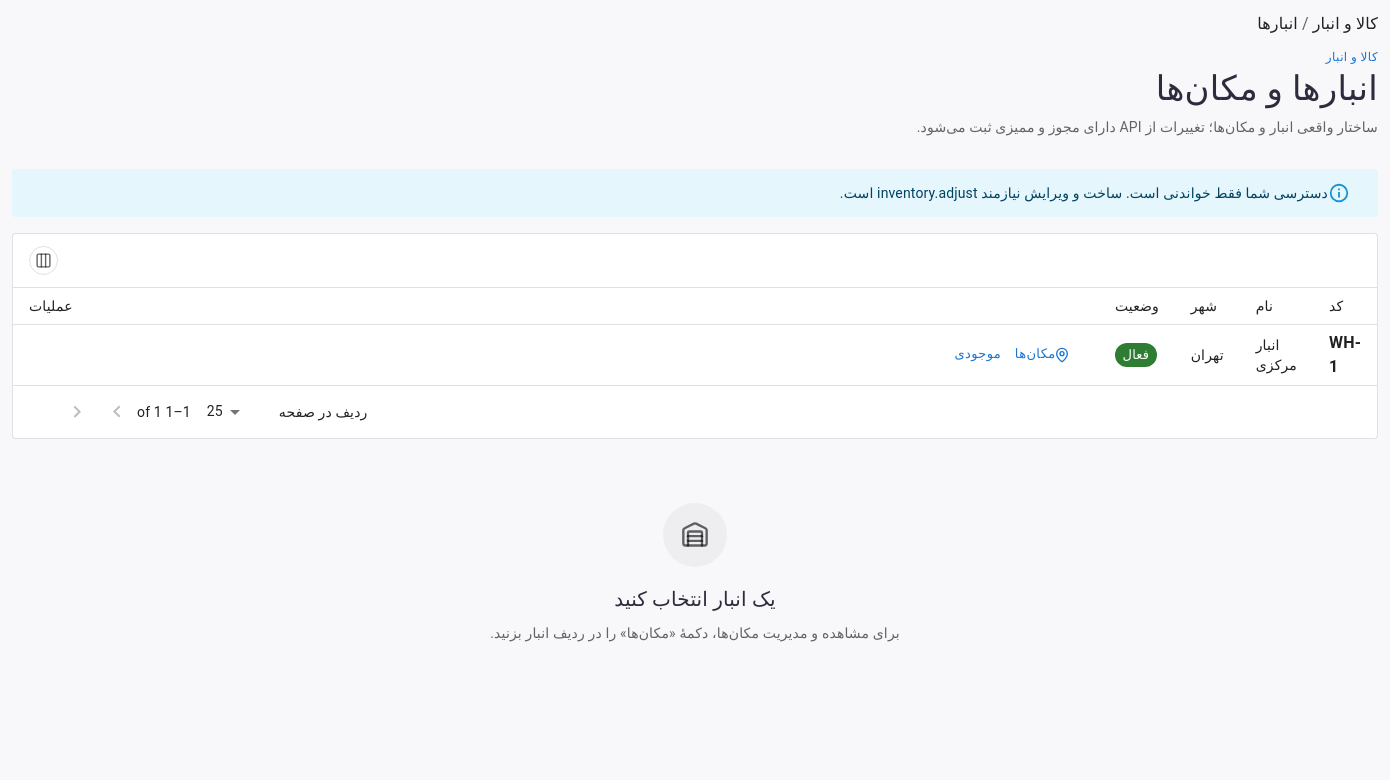
Test: WarehousesView › shows real warehouse and selected-location rows with read-only controls
Check: the text "انبار مرکزی" is shown, box [1240,325,1313,386]
Click the button "مکان‌ها". click: (1046, 355)
box: [1010,340,1083,370]
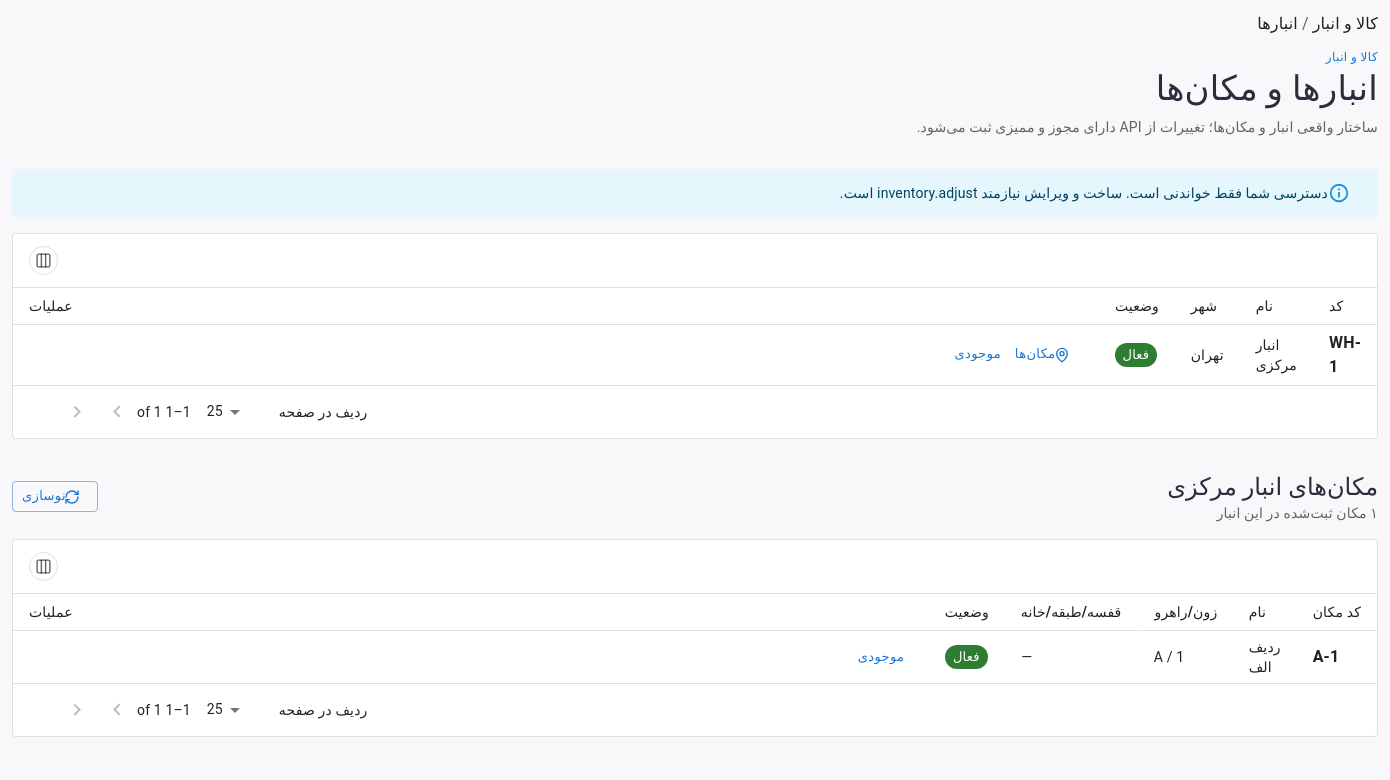
Check: the text "ردیف الف" is shown, box [1233,631,1297,684]
